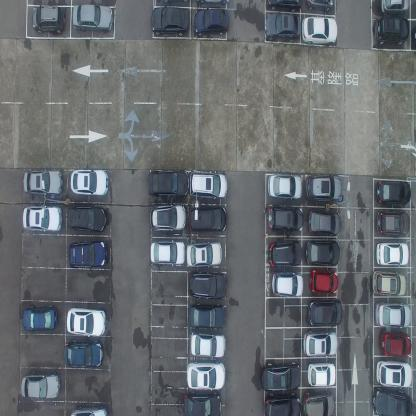car: (66, 305, 107, 337), (148, 167, 189, 198), (189, 168, 228, 200), (186, 360, 225, 392), (260, 362, 301, 392), (22, 167, 63, 197), (72, 3, 114, 32), (67, 204, 108, 233), (264, 11, 300, 44), (302, 16, 338, 49), (23, 204, 63, 233), (63, 339, 103, 368), (150, 7, 190, 36), (374, 14, 409, 47), (20, 372, 61, 400), (69, 239, 108, 268), (69, 168, 109, 196), (150, 201, 187, 231), (375, 358, 412, 388), (150, 236, 186, 266), (194, 8, 230, 38), (190, 206, 227, 235), (188, 269, 226, 297), (306, 174, 341, 204), (186, 238, 222, 267), (376, 300, 412, 329), (373, 389, 413, 415), (31, 5, 65, 35), (307, 298, 342, 327), (189, 302, 226, 329), (306, 239, 340, 268), (190, 331, 225, 359), (375, 179, 411, 206), (267, 206, 304, 232), (268, 239, 302, 267), (372, 269, 406, 297), (302, 330, 338, 356), (308, 209, 341, 237), (379, 330, 412, 358), (270, 271, 304, 298), (22, 306, 58, 331), (376, 210, 410, 236), (268, 174, 301, 200), (376, 240, 409, 266), (183, 394, 221, 416), (264, 393, 301, 415), (309, 268, 338, 295), (307, 361, 336, 387), (303, 392, 335, 415), (380, 0, 410, 15), (266, 0, 303, 12), (70, 404, 108, 415), (306, 0, 335, 14)
